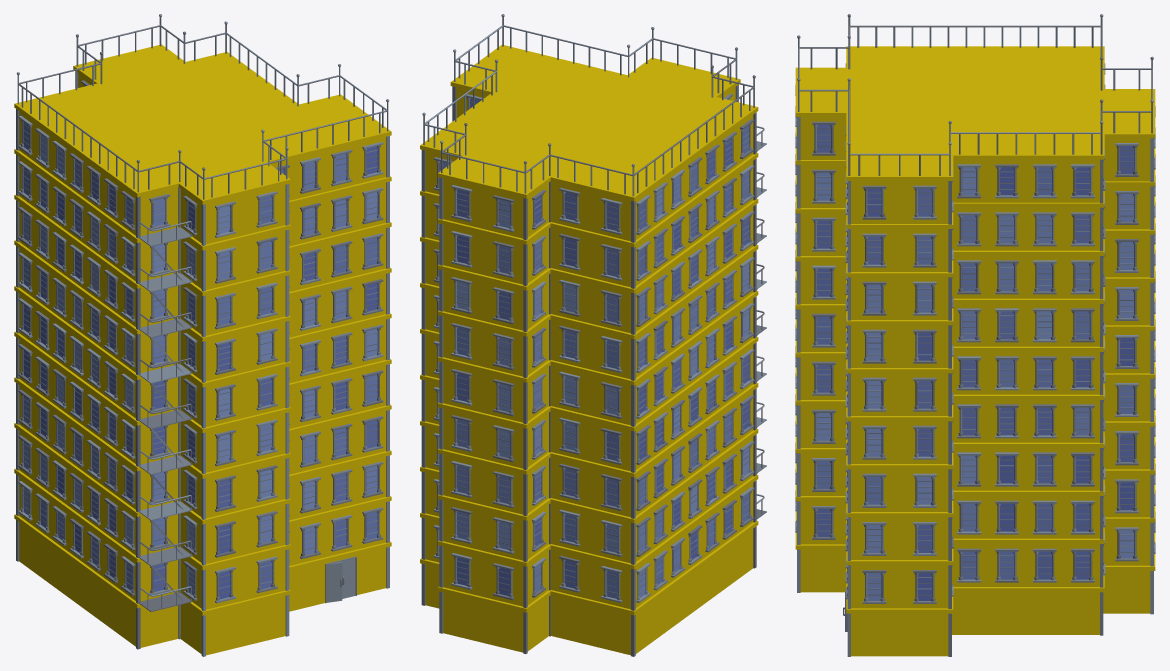
Rendered from Building Procedural.019.fbx.
The picture shows the model from 3 angles, left to right: view 1: azimuth 30°, elevation 25°; view 2: azimuth 150°, elevation 25°; view 3: azimuth 270°, elevation 25°; orthographic projection. The views are drawn at different scales.
Visible parts, largest first — view 1: Building Procedural.019; view 2: Building Procedural.019; view 3: Building Procedural.019.
Part boxes in pixels (<box>): Building Procedural.019: <box>14,14,391,656</box>; Building Procedural.019: <box>420,14,766,656</box>; Building Procedural.019: <box>795,14,1155,656</box>.
Bounding box in the file's own units: 1754 × 3210 × 2040.
